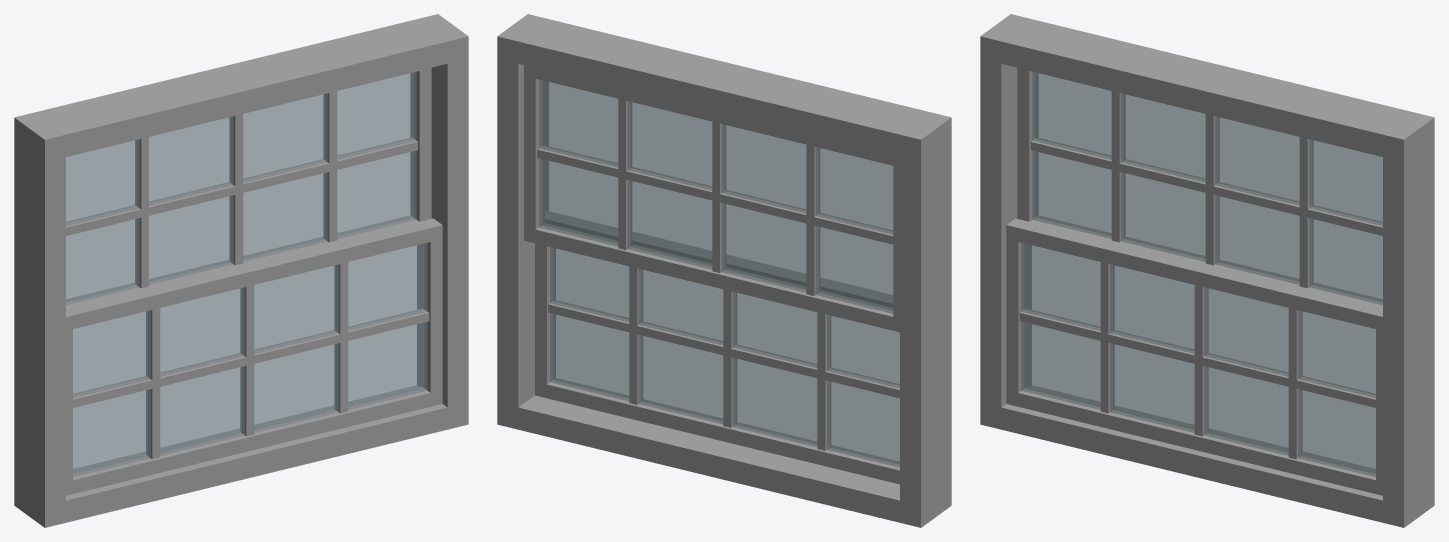
Rendered from VentanaCorrVert160x140.fbx.
The picture shows the model from 3 angles, left to right: view 1: azimuth 30°, elevation 25°; view 2: azimuth 150°, elevation 25°; view 3: azimuth 330°, elevation 25°; orthographic projection.
Visible parts, largest first — view 1: pCube1 (×2), pCube2, pCube5, pCube3, pCube4, pCube12 (×2), pCube8 (×2), pCube6, pCube13 (×2), pCube9 (×2), pCube10 (×2), pCube11 (×2) (+1 smaller); view 2: pCube1 (×2), pCube2, pCube5, pCube12 (×2), pCube4, pCube3, pCube8 (×2), pCube6 (×2), pCube13 (×2), pCube9 (×2), pCube11 (×2), pCube10 (×2) (+1 smaller); view 3: pCube1 (×2), pCube3, pCube5, pCube2, pCube4, pCube12 (×2), pCube8 (×2), pCube6, pCube14 (×2), pCube10 (×2), pCube9 (×2), pCube11 (×2) (+1 smaller).
Part boxes in pixels (x1,y1,x2,y2): pCube1 (×2): [66, 72, 427, 476]; pCube2: [14, 112, 65, 527]; pCube5: [35, 19, 447, 156]; pCube3: [417, 14, 468, 429]; pCube4: [66, 385, 447, 522]; pCube12 (×2): [66, 215, 442, 495]; pCube8 (×2): [66, 138, 429, 407]; pCube6: [66, 218, 442, 329]; pCube13 (×2): [410, 67, 442, 406]; pCube9 (×2): [229, 114, 254, 436]; pCube10 (×2): [323, 91, 348, 413]; pCube11 (×2): [135, 137, 160, 459]; pCube1 (×2): [539, 79, 899, 467]; pCube2: [900, 112, 951, 527]; pCube5: [518, 19, 930, 156]; pCube12 (×2): [524, 223, 899, 484]; pCube4: [518, 395, 899, 522]; pCube3: [497, 14, 548, 429]; pCube8 (×2): [537, 145, 899, 398]; pCube6 (×2): [524, 65, 899, 307]; pCube13 (×2): [524, 74, 555, 398]; pCube9 (×2): [712, 121, 736, 427]; pCube11 (×2): [806, 144, 830, 450]; pCube10 (×2): [618, 99, 642, 404]; pCube1 (×2): [1021, 72, 1382, 476]; pCube3: [1383, 112, 1434, 527]; pCube5: [1001, 19, 1413, 156]; pCube2: [980, 14, 1031, 429]; pCube4: [1001, 385, 1382, 522]; pCube12 (×2): [1006, 215, 1382, 495]; pCube8 (×2): [1019, 138, 1382, 407]; pCube6: [1006, 218, 1382, 330]; pCube14 (×2): [1006, 68, 1038, 406]; pCube10 (×2): [1288, 137, 1313, 459]; pCube9 (×2): [1194, 114, 1219, 436]; pCube11 (×2): [1100, 91, 1125, 413].
Size of the model in its own units: 16 by 14 by 2.
